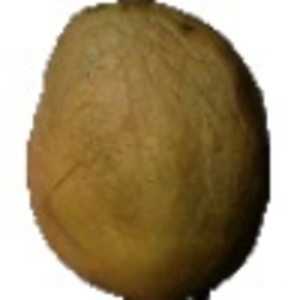mamão: (17, 3, 277, 295)
